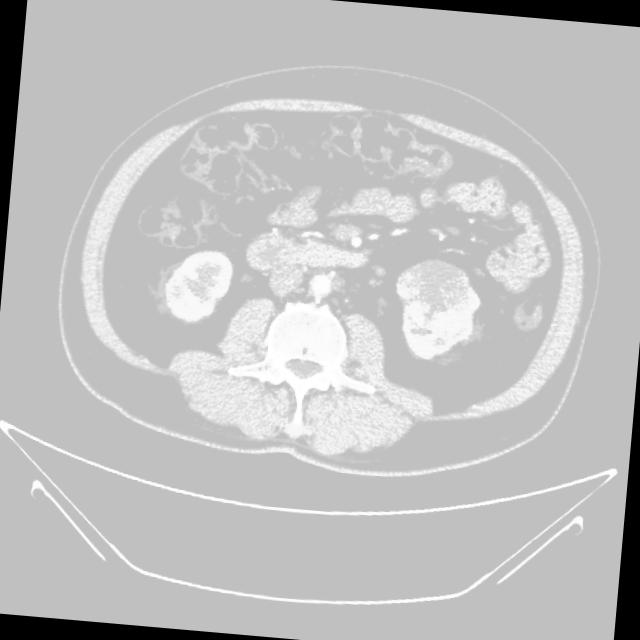TUMOR: (244, 160, 559, 355)
